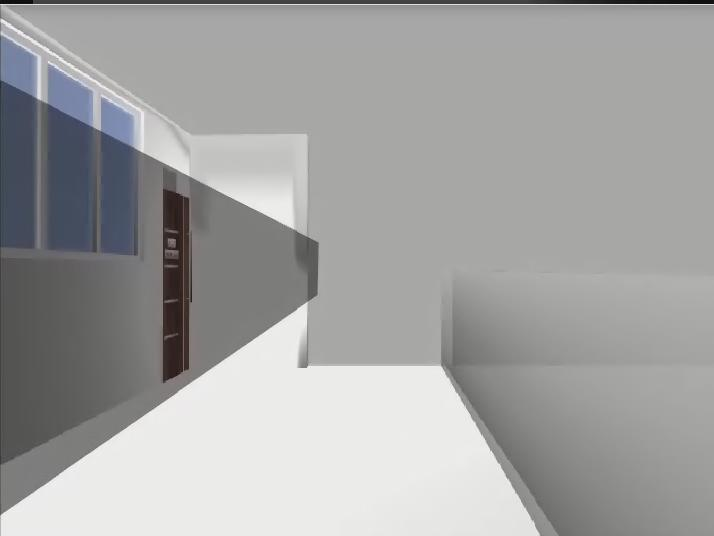door: (163, 189, 193, 383)
